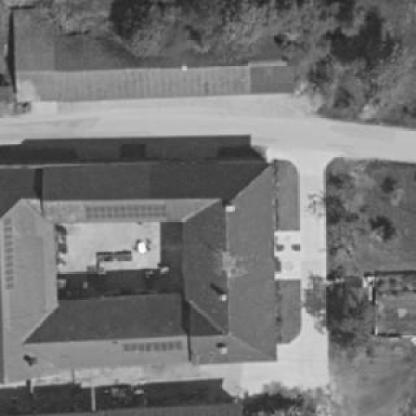solar-pv-panel: (86, 205, 166, 220), (1, 218, 14, 288), (123, 343, 182, 354)
